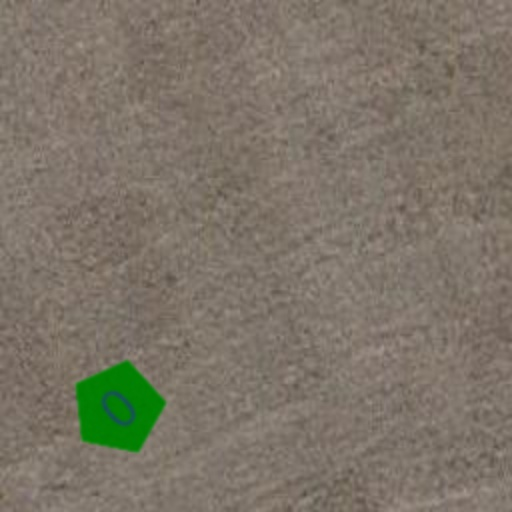pentagon: (46, 336, 190, 480)
